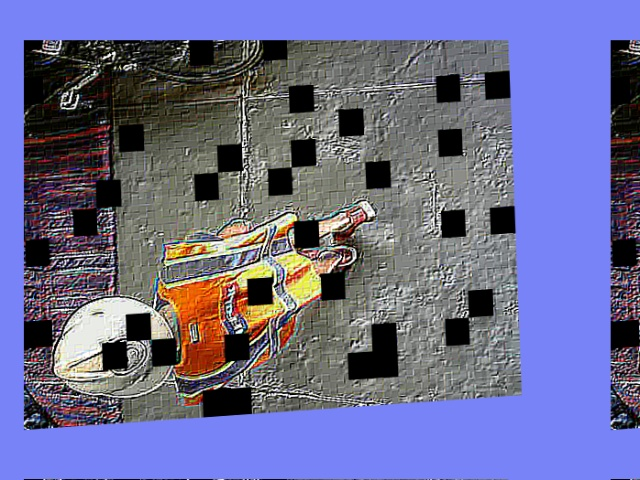three: (104, 335, 146, 374)
